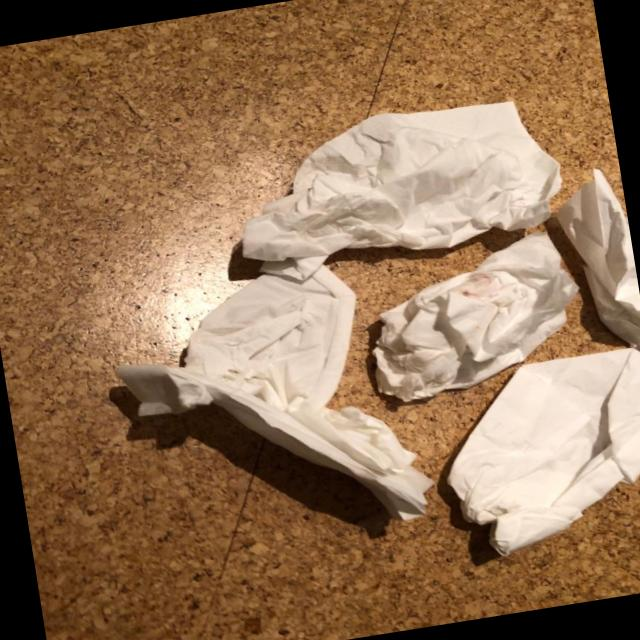organic waste: (104, 249, 443, 565), (212, 86, 572, 278), (426, 343, 640, 568), (354, 224, 591, 409), (549, 166, 640, 363)
